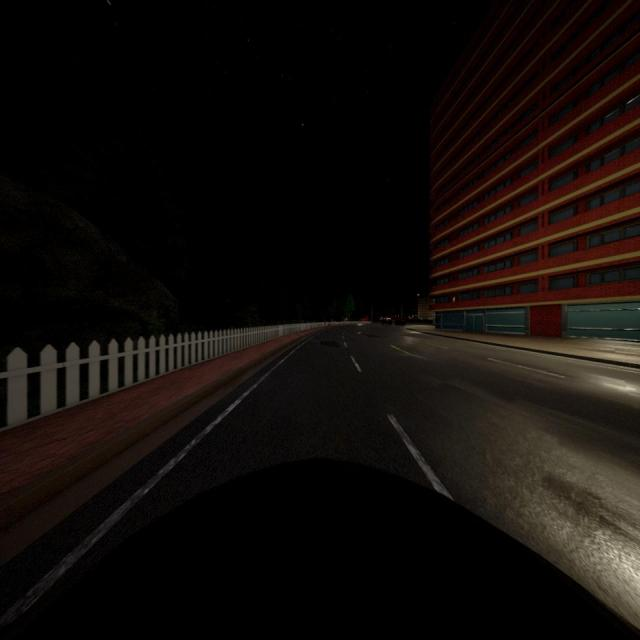Vehicle: (1, 461, 640, 640), (382, 317, 392, 327), (395, 318, 406, 327), (360, 316, 369, 322)
